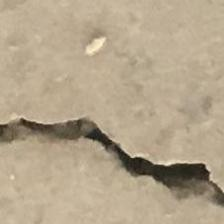Crack: (6, 92, 224, 207)
